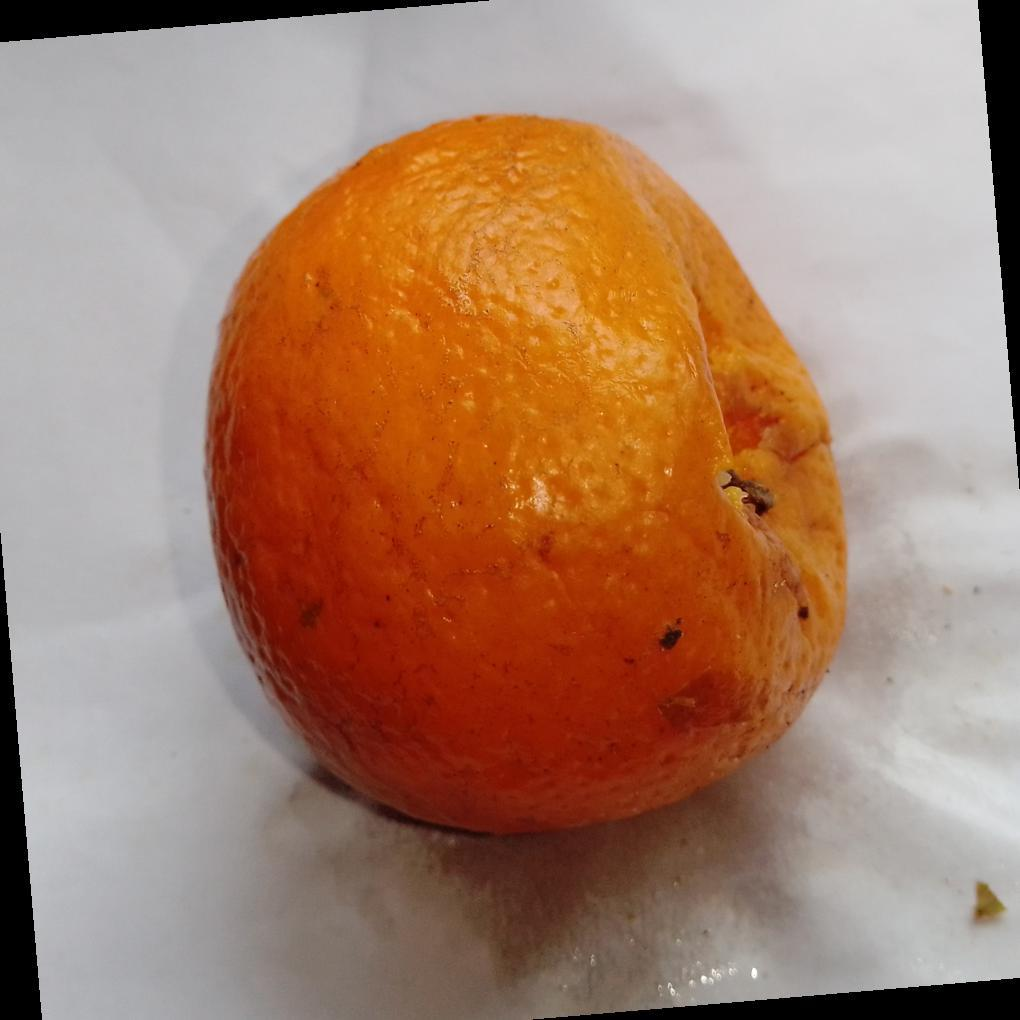FreshOrange: (200, 114, 851, 842)
